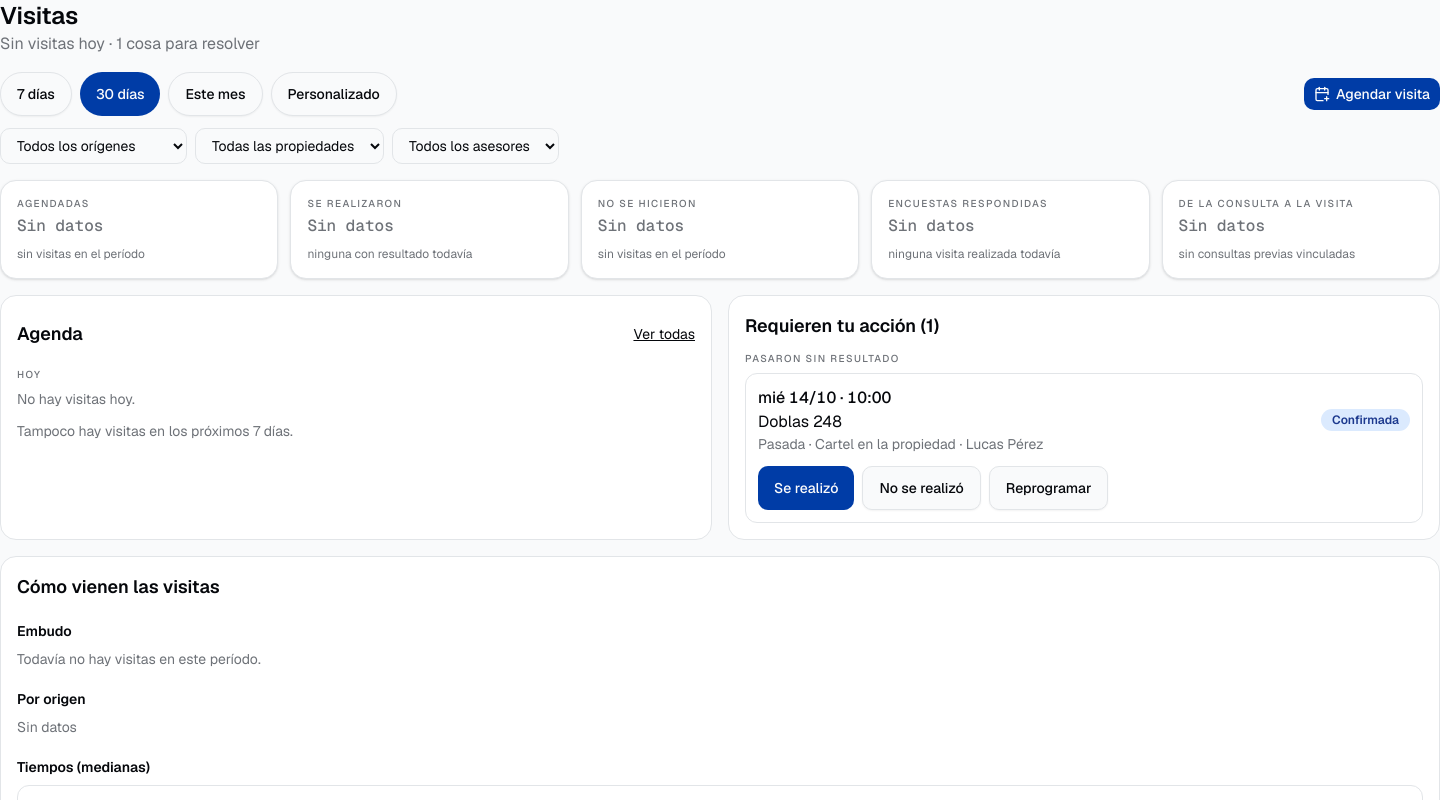
Scenario: /visits › criterio 14: "Se realizó" desde "Requieren tu acción" vuelve a pedir el resumen y la visita sale de la lista
Click the button "Se realizó".
click(806, 488)  # box x1=758 y1=466 x2=854 y2=510
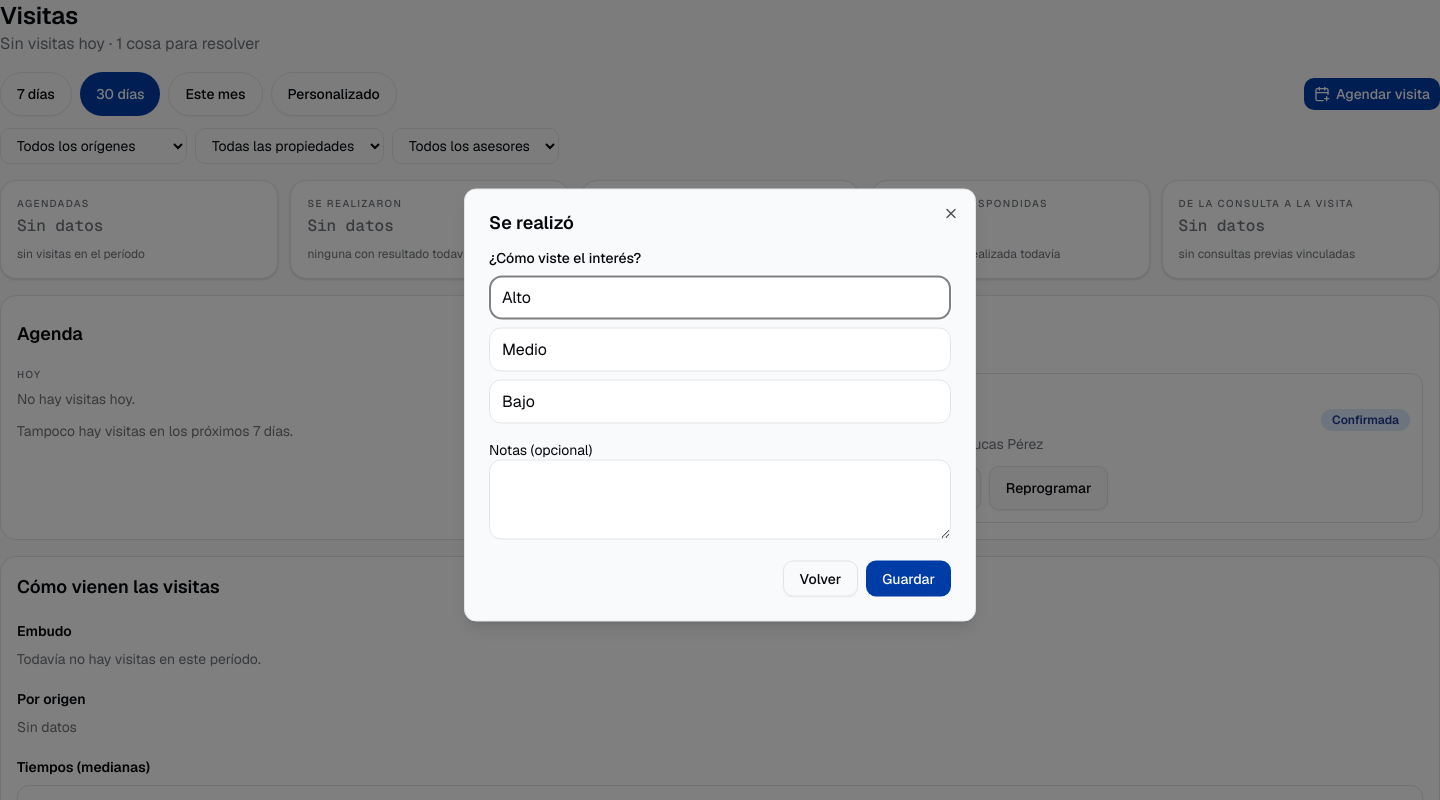
Click the radio button labelled "Alto".
click(517, 297)  # box x1=489 y1=276 x2=951 y2=320
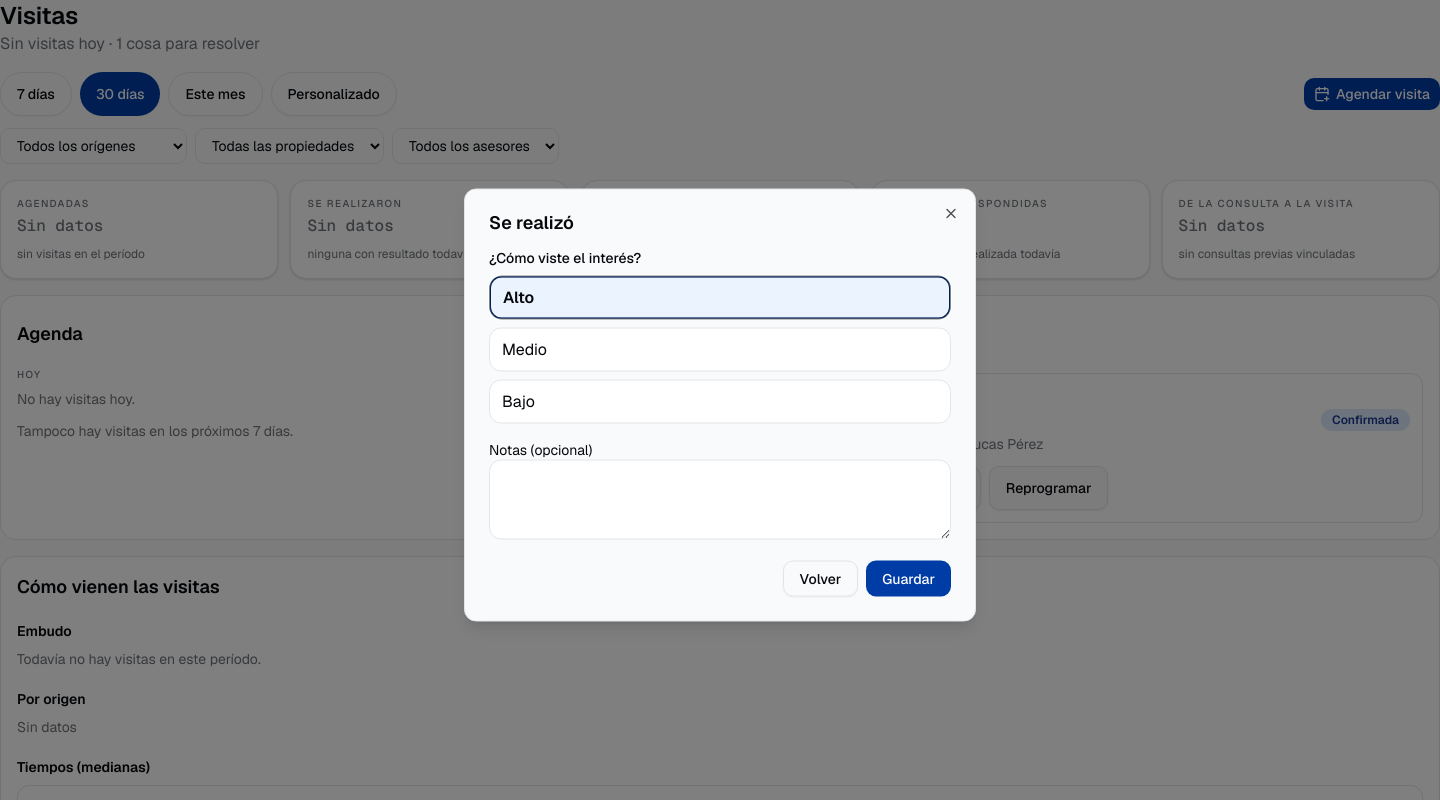
Click the button "Guardar".
click(909, 578)  # box x1=866 y1=560 x2=951 y2=596
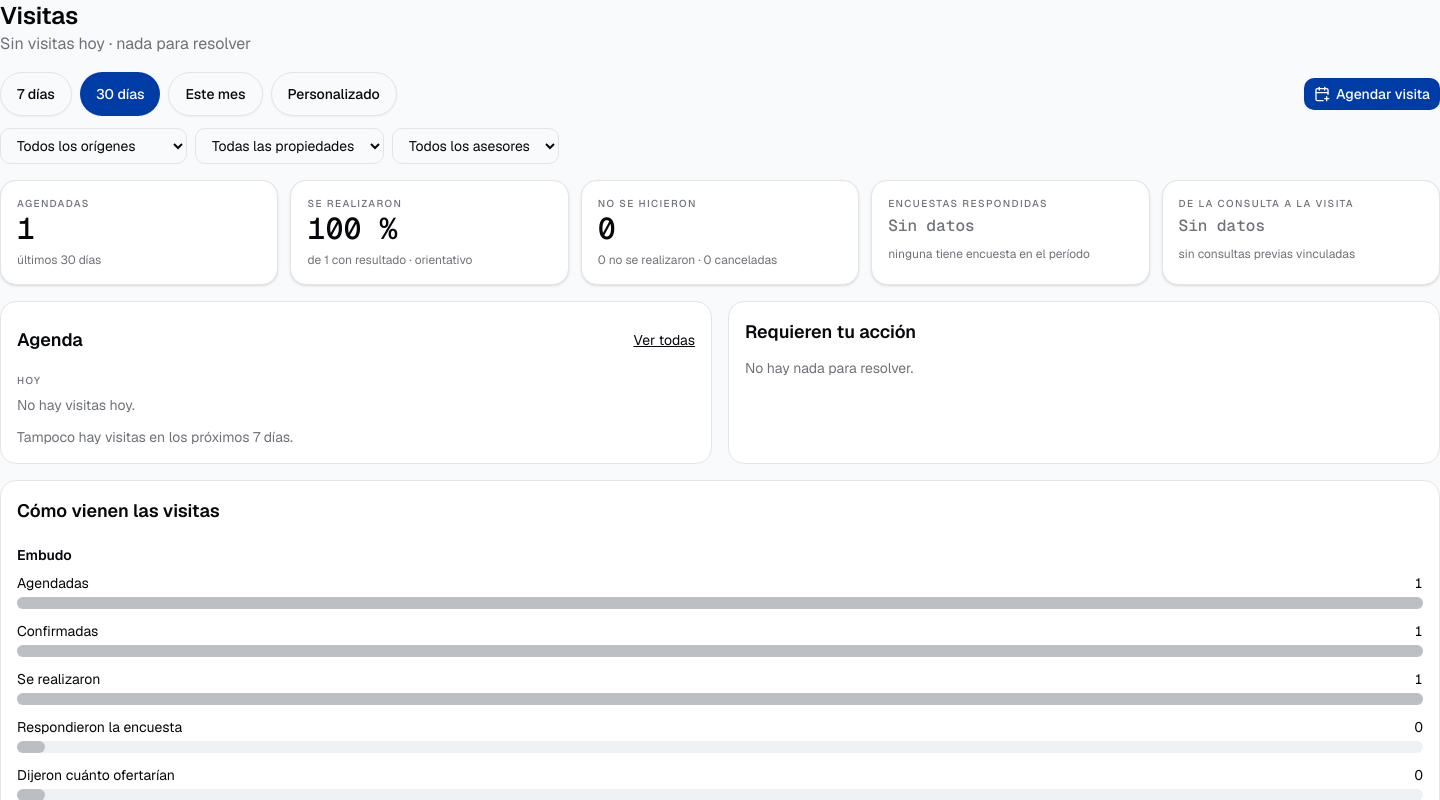
Check: the text "No hay nada para resolver." is shown, box x1=745 y1=359 x2=913 y2=377
Check: the text "100 %" is shown, box x1=307 y1=209 x2=397 y2=248
